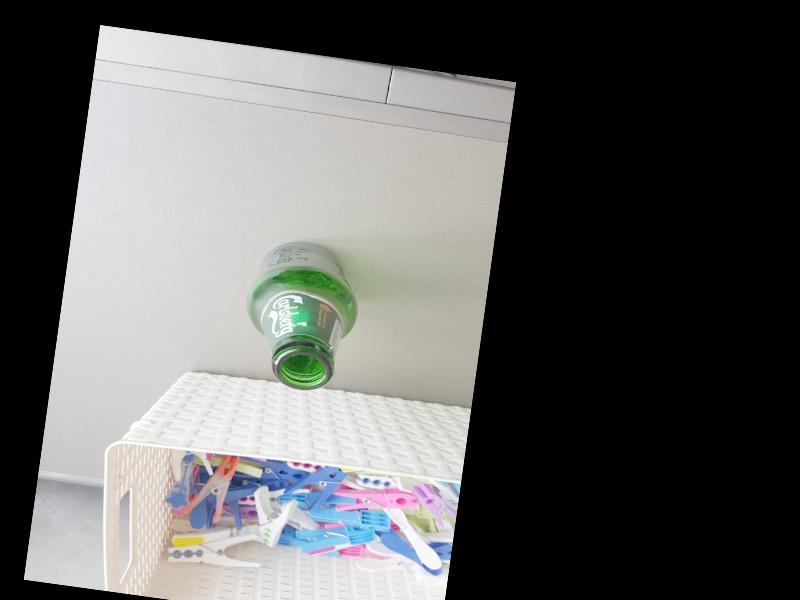Beer: (234, 233, 366, 395)
